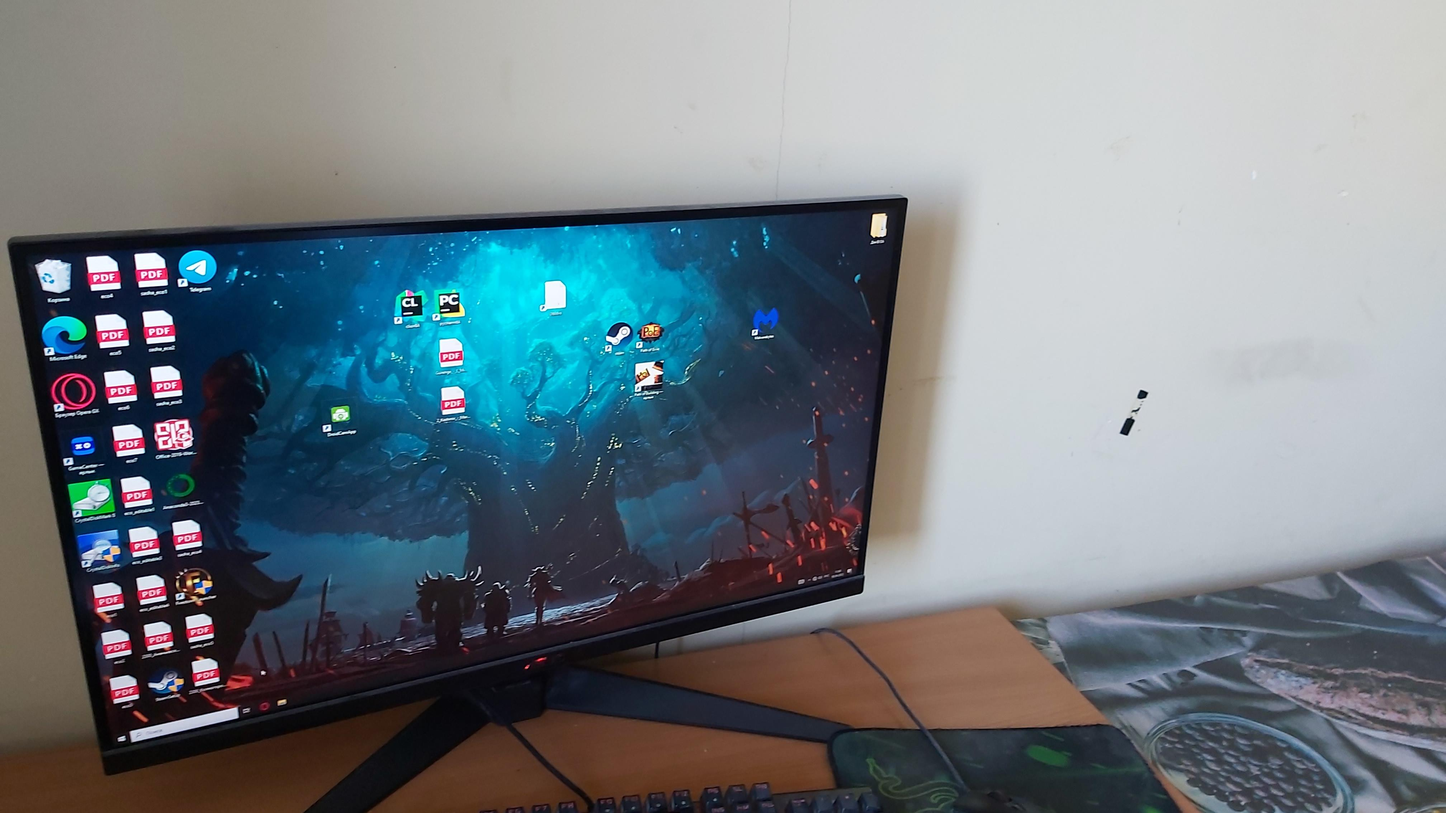monitor: (0, 192, 911, 781)
